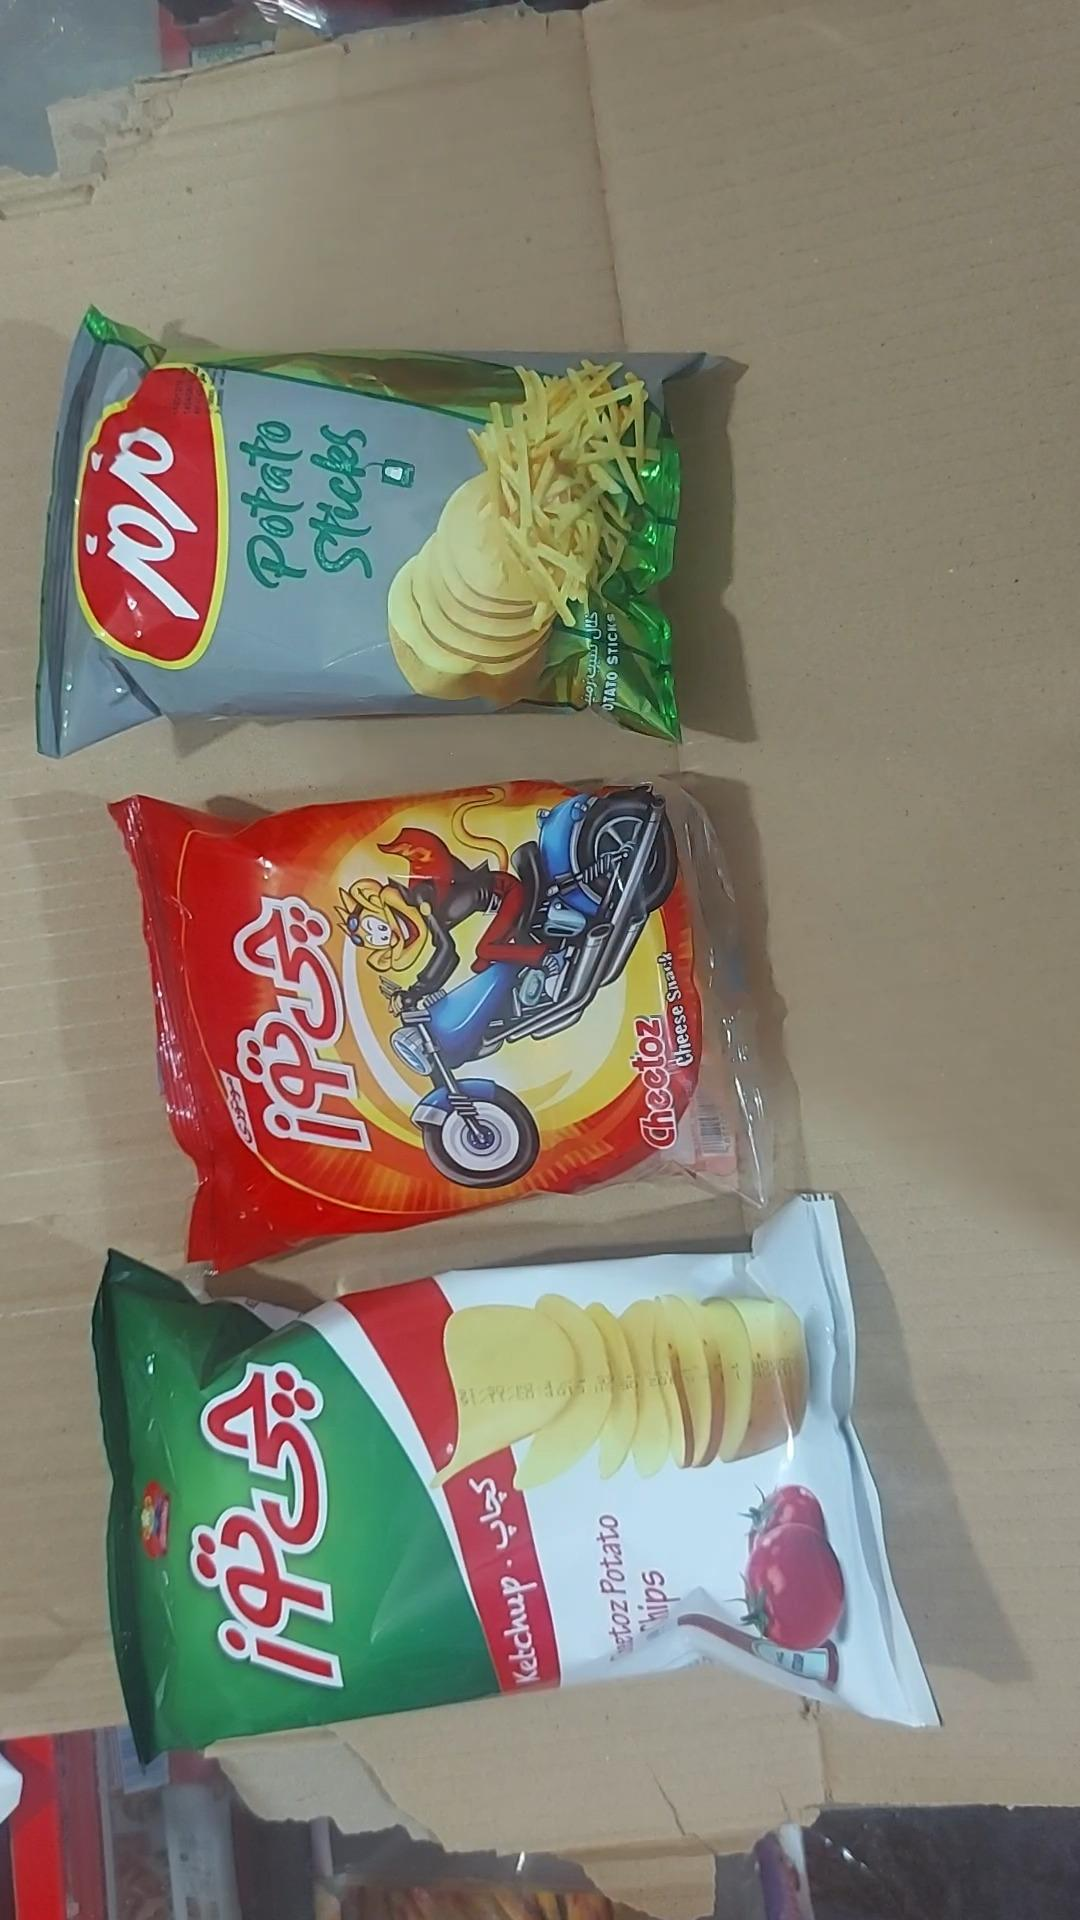Cheetoz ketchup chips: (94, 1197, 940, 1756)
Cheetoz snack 30g: (111, 782, 764, 1271)
Maz Maz potato sticks: (36, 309, 708, 756)
